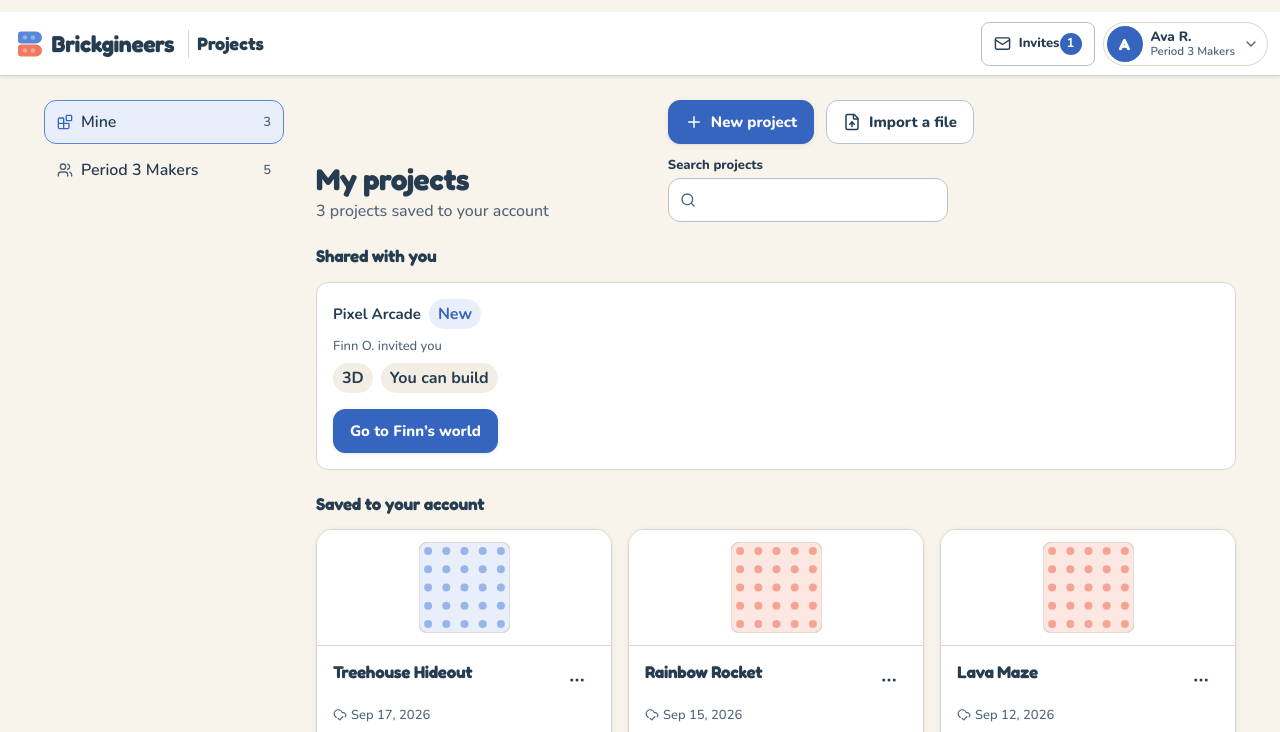
student › offers the rail with counts and switches to the class section
The image size is (1280, 732).
Expected: the button "Mine 3" is shown, [44,100,284,144]
Click the button "Period 3 Makers 5": (164, 170) [44,148,284,192]
(page scrolled)
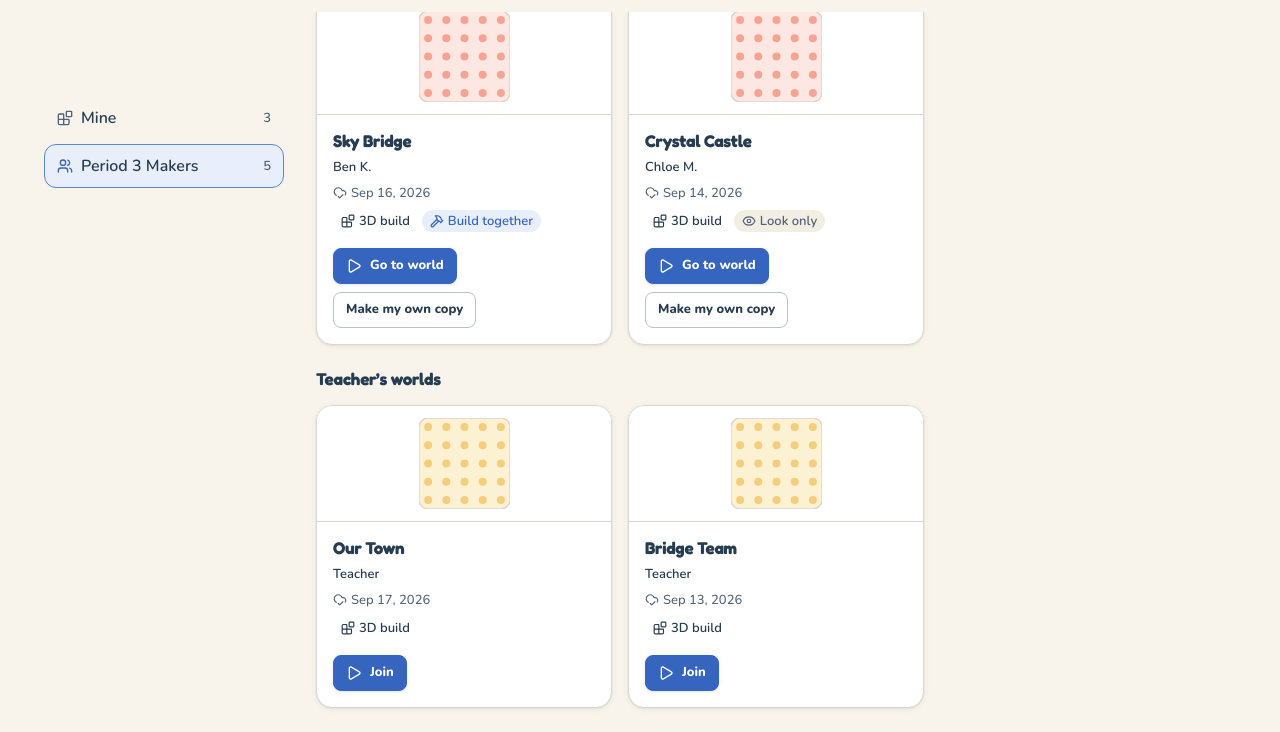
Expected: the text "Ben K." is shown, [333,158,371,176]
Expected: the text "Build together" is shown, [422,210,541,232]
Expected: the text "Look only" is shown, [734,210,825,232]
